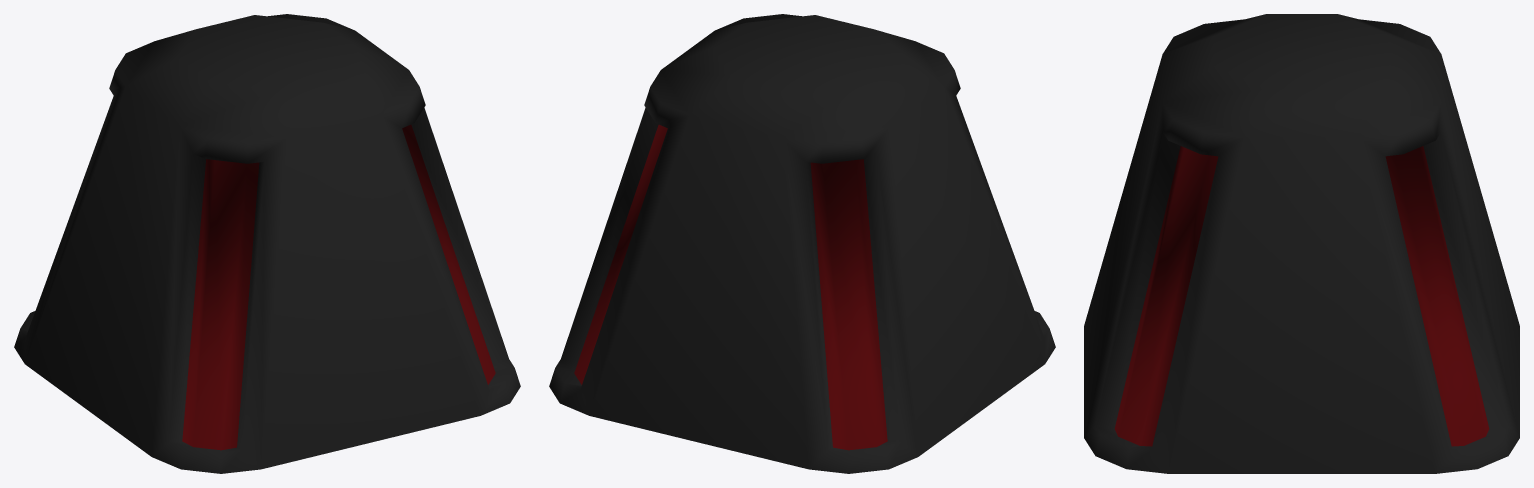
The model's file is Warsaw Turret Base.obj.
3 renders of one model, left to right at view 1: azimuth 30°, elevation 25°; view 2: azimuth 150°, elevation 25°; view 3: azimuth 270°, elevation 25°, orthographic. The views are drawn at different scales.
Visible parts, largest first — view 1: Warsaw_Turret_Base_Cube.001; view 2: Warsaw_Turret_Base_Cube.001; view 3: Warsaw_Turret_Base_Cube.001.
Boxes of the visible parts, x1,y1,x2,y2 form: Warsaw_Turret_Base_Cube.001: [14, 14, 520, 473]; Warsaw_Turret_Base_Cube.001: [549, 14, 1055, 473]; Warsaw_Turret_Base_Cube.001: [1084, 14, 1519, 473].
Size of the model in its own units: 1.3 by 1.09 by 1.3.
